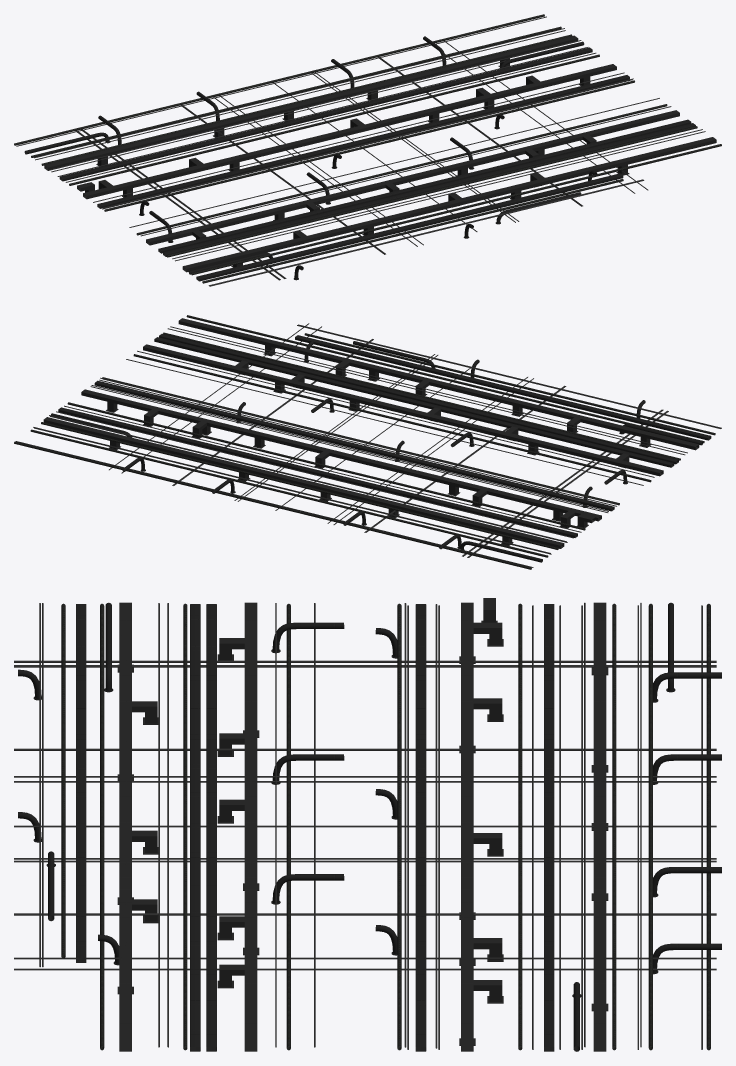
The model's file is ceilling vent.FBX.
The picture shows the model from 3 angles, top to bottom: view 1: azimuth 30°, elevation 25°; view 2: azimuth 150°, elevation 25°; view 3: azimuth 270°, elevation 25°; orthographic projection. The views are drawn at different scales.
Visible parts, largest first — view 1: ceilling vent; view 2: ceilling vent; view 3: ceilling vent.
Boxes of the visible parts, x1=… form: ceilling vent: x1=14, y1=14, x2=721, y2=286; ceilling vent: x1=14, y1=315, x2=721, y2=569; ceilling vent: x1=14, y1=598, x2=721, y2=1051.
Bounding box in the file's own units: 797 × 538 × 23.93.
Materials: 1 (1 with a texture image).
